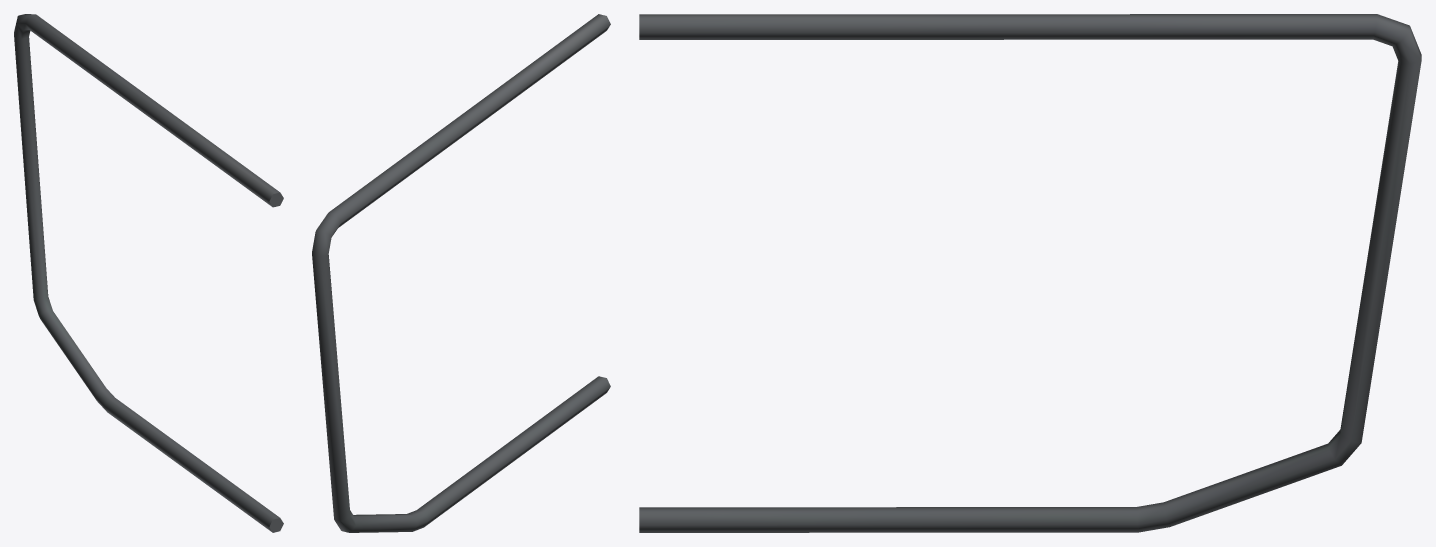
File: SM_WallFrameTubIntCont.fbx
3 views of the same model, side by side, from view 1: azimuth 30°, elevation 25°; view 2: azimuth 150°, elevation 25°; view 3: azimuth 270°, elevation 25° (orthographic). The views are drawn at different scales.
Parts seen in each view (by area): view 1: SM_WallFrameTubIntCont_LOD0; view 2: SM_WallFrameTubIntCont_LOD0; view 3: SM_WallFrameTubIntCont_LOD0.
Part boxes in pixels (box(x1,y1,x2,y2)): SM_WallFrameTubIntCont_LOD0: box(14, 14, 283, 532); SM_WallFrameTubIntCont_LOD0: box(312, 14, 610, 532); SM_WallFrameTubIntCont_LOD0: box(639, 14, 1421, 532).
Bounding box in the file's own units: 5.23 × 152 × 110.
Materials: 1 (1 with a texture image).
